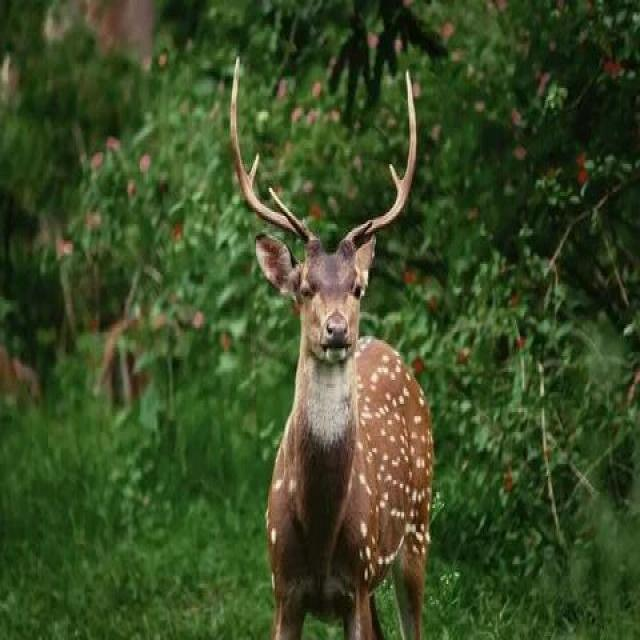deer: (185, 52, 472, 572)
